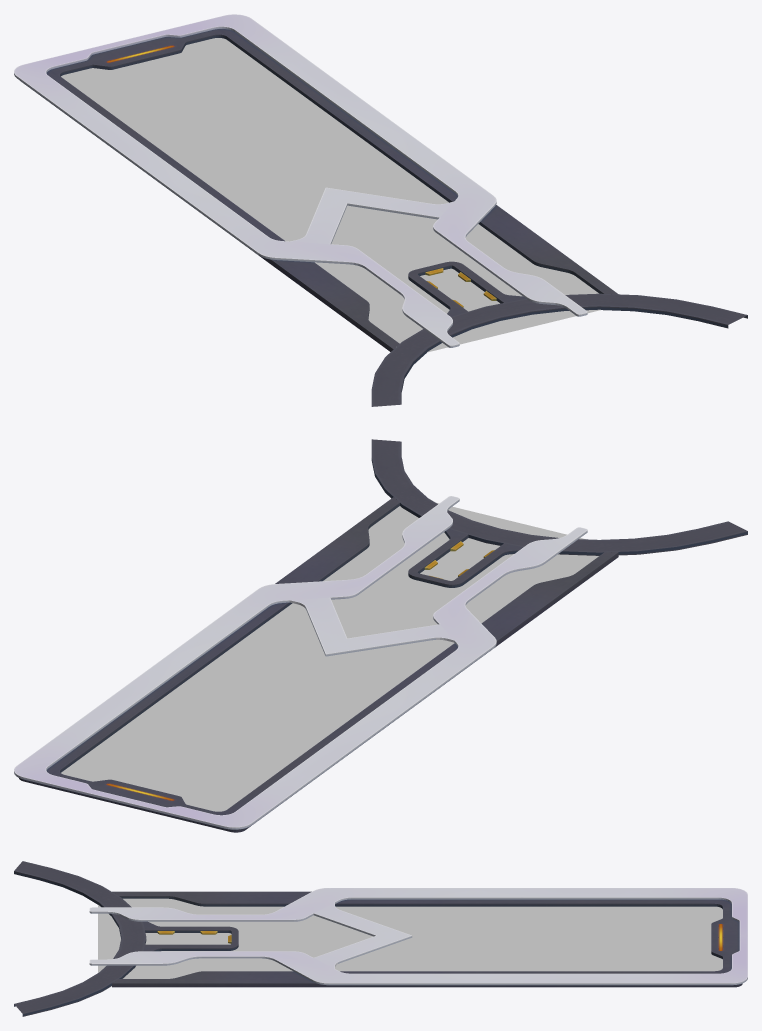
Rendered from mesh_1002_yjy_sd004_2a.FBX.
The picture shows the model from 3 angles, top to bottom: view 1: azimuth 30°, elevation 25°; view 2: azimuth 150°, elevation 25°; view 3: azimuth 270°, elevation 25°; orthographic projection. The views are drawn at different scales.
Visible parts, largest first — view 1: mesh_1002_yjy_sd004_2a, mesh_1002_yjy_sd004_1b; view 2: mesh_1002_yjy_sd004_2a, mesh_1002_yjy_sd004_1b; view 3: mesh_1002_yjy_sd004_2a, mesh_1002_yjy_sd004_1b.
Part boxes in pixels (x1=…): mesh_1002_yjy_sd004_2a: x1=14, y1=14, x2=747, y2=406; mesh_1002_yjy_sd004_1b: x1=61, y1=38, x2=600, y2=352; mesh_1002_yjy_sd004_2a: x1=14, y1=439, x2=747, y2=832; mesh_1002_yjy_sd004_1b: x1=61, y1=502, x2=598, y2=811; mesh_1002_yjy_sd004_2a: x1=14, y1=861, x2=747, y2=1016; mesh_1002_yjy_sd004_1b: x1=98, y1=898, x2=722, y2=978.
Size of the model in its own units: 1146 by 21.12 by 2324.
